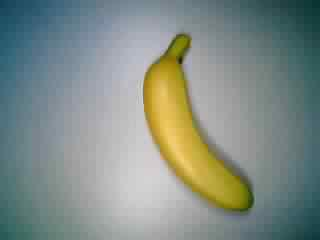banana: (141, 33, 258, 215)
